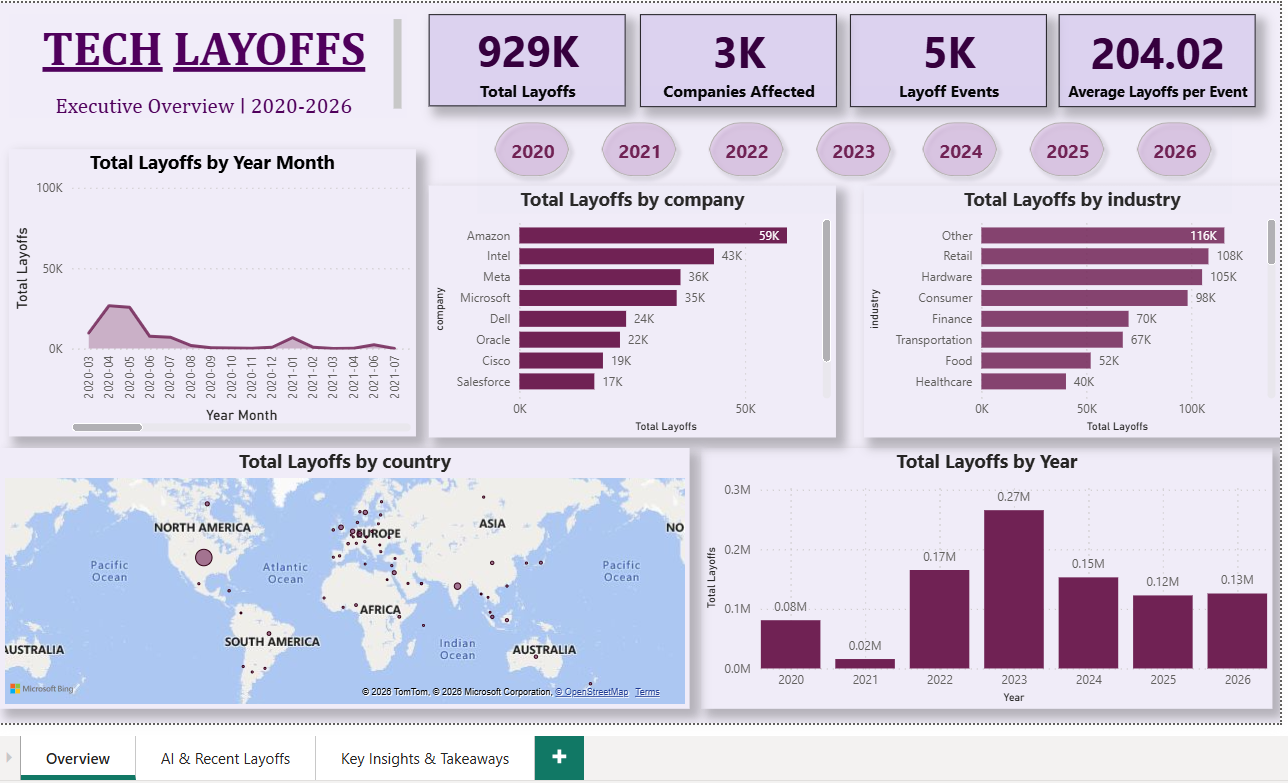

This screenshot's page, from the dashboard's own definition file:
{"tool":"powerbi","page":{"name":"Overview","canvas":[1280,720],"ordinal":0},"visuals":[{"type":"card","fields":{"Values":["Calendar.Total Layoffs"]},"box":[429.2,11,196.9,91.7],"z":0},{"type":"card","fields":{"Values":["Calendar.Layoff Events"]},"box":[849.9,11,196.9,92.9],"z":1000},{"type":"card","fields":{"Values":["Calendar.Companies Affected"]},"box":[639.5,11,196.9,92.9],"z":2000},{"type":"card","fields":{"Values":["Calendar.Average Layoffs per Event"]},"box":[1059,11,196.9,92.9],"z":3000},{"type":"lineChart","fields":{"Category":["Calendar.Year Month"],"Y":["Calendar.Total Layoffs"]},"box":[8.6,146.7,407.2,287.4],"z":4000},{"type":"clusteredColumnChart","fields":{"Category":["Calendar.Year"],"Y":["Calendar.Total Layoffs"]},"box":[700.7,445.1,571.1,260.5],"z":5000},{"type":"clusteredBarChart","fields":{"Category":["Power Bi Layoff.industry"],"Y":["Calendar.Total Layoffs"]},"box":[863.3,182.2,417,251.9],"z":6000},{"type":"clusteredBarChart","fields":{"Category":["Power Bi Layoff.company"],"Y":["Calendar.Total Layoffs"]},"box":[429.2,182.2,407.2,251.9],"z":7000},{"type":"map","fields":{"Category":["Power Bi Layoff.country"],"Size":["Calendar.Total Layoffs"]},"box":[0,445.1,689.7,260.5],"z":8000},{"type":"advancedSlicerVisual","fields":{"Values":["Calendar.Year"]},"box":[476.9,81.9,754.5,128.4],"z":9000},{"type":"textbox","box":[8.6,11,397.4,103.9],"z":10000}]}

Visuals, with their boxes on the page's 1280x720 design canvas (x1, y1, x2, y2). These are canvas units, not pixel positions in the 1288x783 screenshot, which may show the page scaled, cropped or inside an application window:
card - Calendar.Total Layoffs: pyautogui.locateOnScreen(429, 11, 626, 103)
card - Calendar.Layoff Events: pyautogui.locateOnScreen(850, 11, 1047, 104)
card - Calendar.Companies Affected: pyautogui.locateOnScreen(640, 11, 836, 104)
card - Calendar.Average Layoffs per Event: pyautogui.locateOnScreen(1059, 11, 1256, 104)
lineChart - Calendar.Year Month x Calendar.Total Layoffs: pyautogui.locateOnScreen(9, 147, 416, 434)
clusteredColumnChart - Calendar.Year x Calendar.Total Layoffs: pyautogui.locateOnScreen(701, 445, 1272, 706)
clusteredBarChart - Power Bi Layoff.industry x Calendar.Total Layoffs: pyautogui.locateOnScreen(863, 182, 1280, 434)
clusteredBarChart - Power Bi Layoff.company x Calendar.Total Layoffs: pyautogui.locateOnScreen(429, 182, 836, 434)
map - Power Bi Layoff.country x Calendar.Total Layoffs: pyautogui.locateOnScreen(0, 445, 690, 706)
advancedSlicerVisual - Calendar.Year: pyautogui.locateOnScreen(477, 82, 1231, 210)
textbox: pyautogui.locateOnScreen(9, 11, 406, 115)
